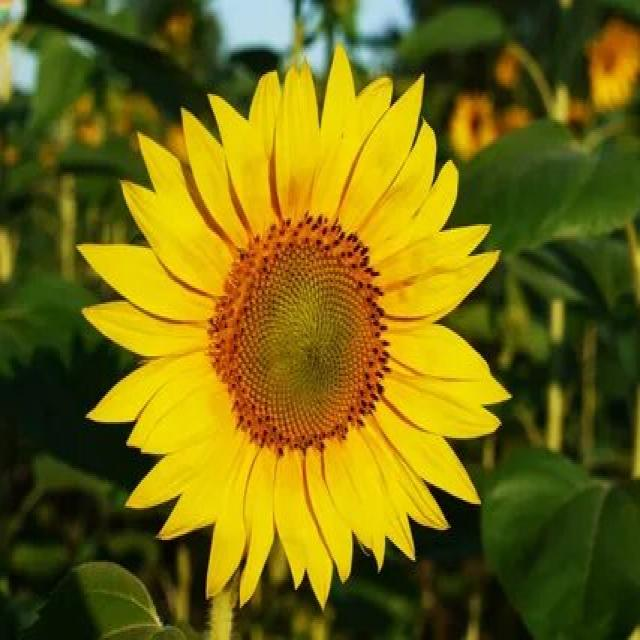sunflower: (62, 48, 517, 617)
